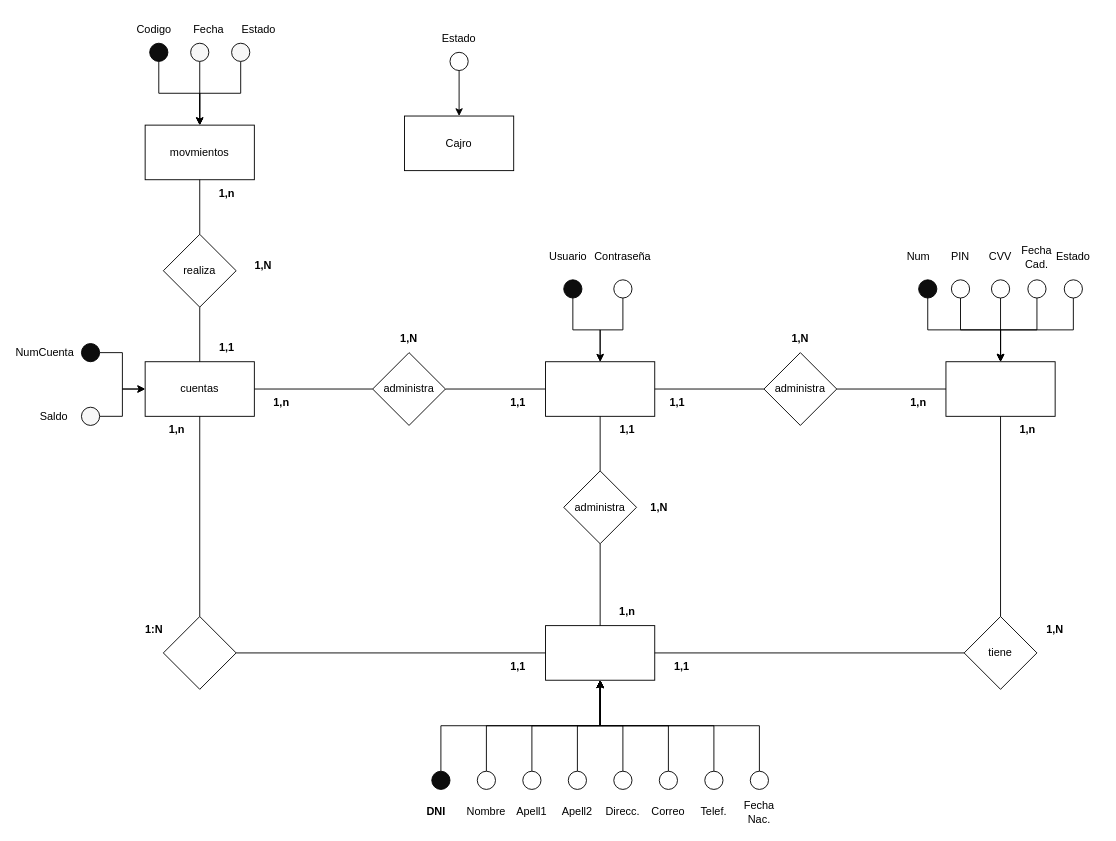
Image size: 1116x841. Some labels were removed from this diagram. Here are the shapes that lost their labels. From the top down, the centre of each, then its label:
At pixel 600 388: "administrador".
At pixel 1000 388: "tarjetas".
At pixel 199 652: "pertenece".
At pixel 600 652: "clientes".
